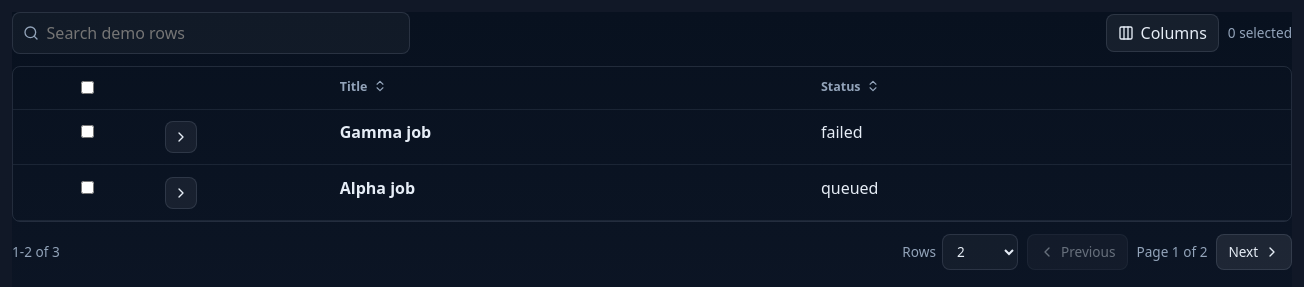
ConsoleTable › supports fuzzy search across hidden columns
Type "gmjb" into the search field named "Search table" at x=223, y=33, box [47,13,399,53]
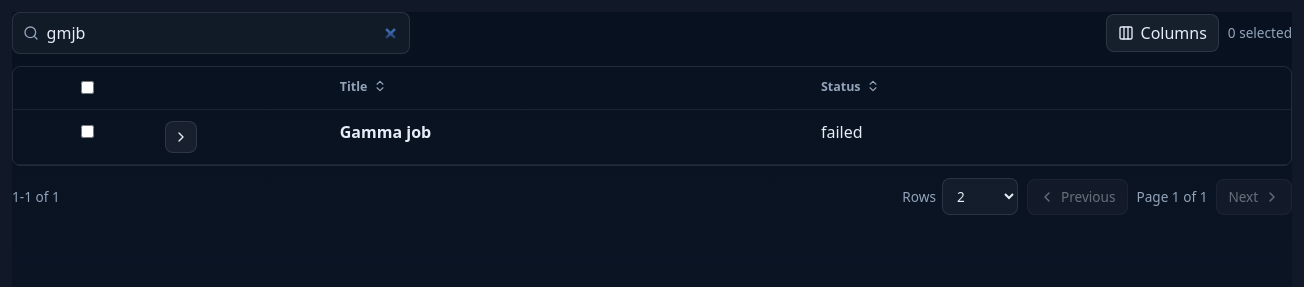
Expected: the text "Gamma job" is shown, [340,121,431,143]
Replace the text in the search field named "Search table" with "medium" at x=223, y=33, box [47,13,399,53]
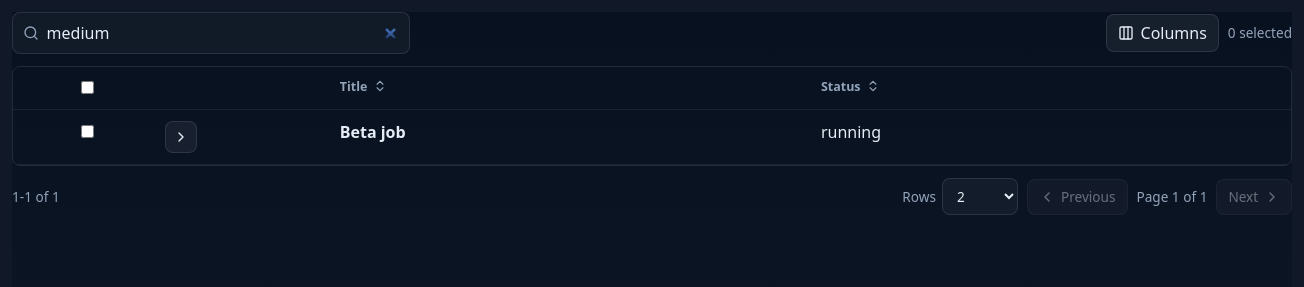
Now the text "Beta job" is shown, box [340,121,406,143]
